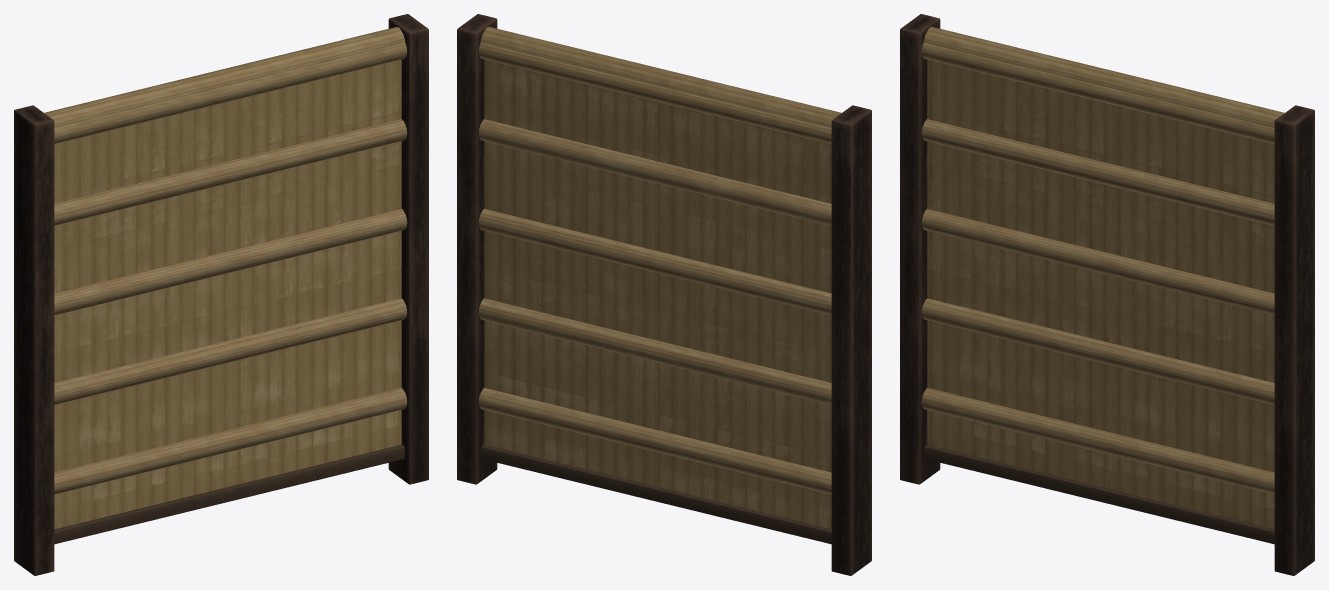
File: Fence1.fbx
3 renders of one model, left to right at view 1: azimuth 30°, elevation 25°; view 2: azimuth 150°, elevation 25°; view 3: azimuth 330°, elevation 25°, orthographic.
Visible parts, largest first — view 1: Fence1; view 2: Fence1; view 3: Fence1.
Boxes of the visible parts, box(x1,y1,x2,y2) form: Fence1: box(14, 14, 428, 575); Fence1: box(457, 14, 871, 575); Fence1: box(900, 14, 1314, 575).
Size of the model in its own units: 3 by 3.27 by 0.279.
